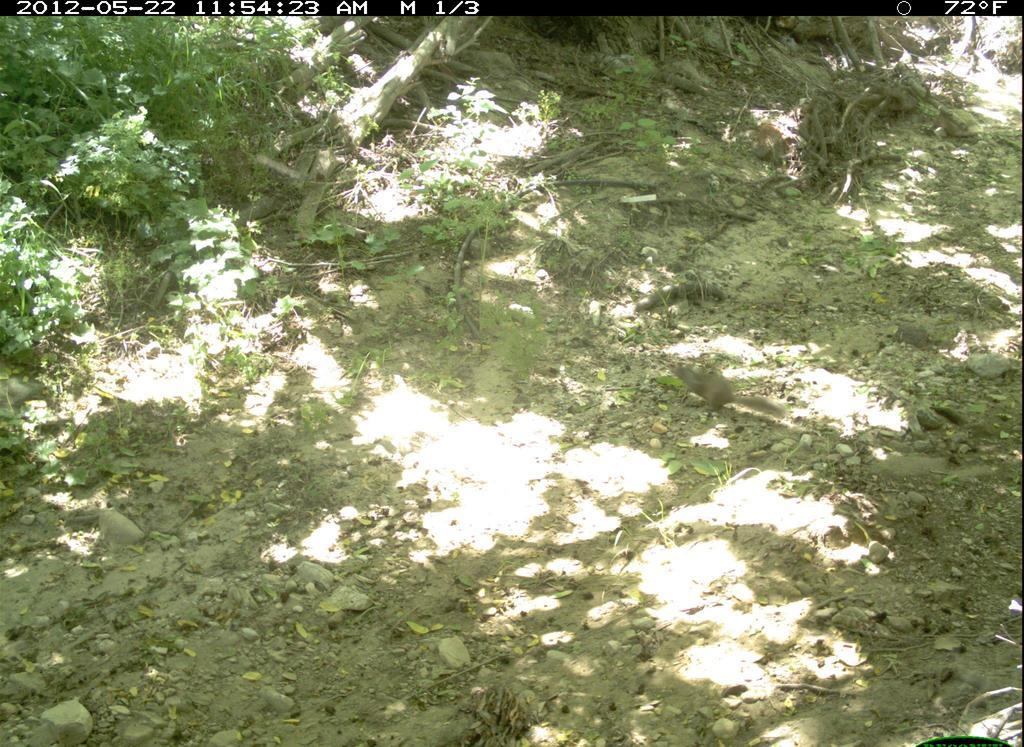squirrel: (665, 351, 786, 440)
